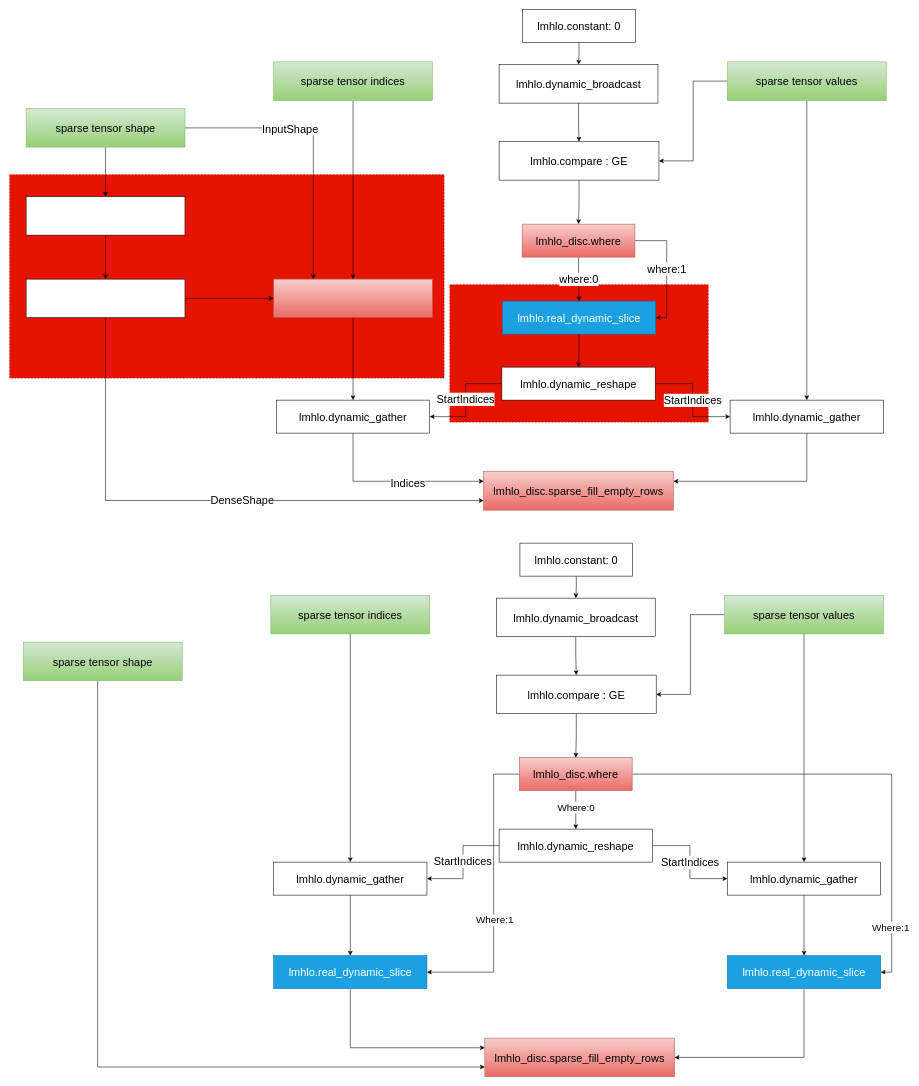
The diagram is 919 pixels wide and 1086 high, and some of its shapes have lost their labels. The shapes that lost their labels are listed below. From the top down, each one's centre as x and y in pixels, then its label:
At pixel 105 215: "some other shape calculation".
At pixel 105 298: "NewShape".
At pixel 352 298: "lmhlo_disc.sparse_reshape".
